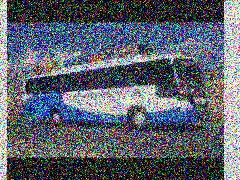bus: (23, 45, 208, 130)
